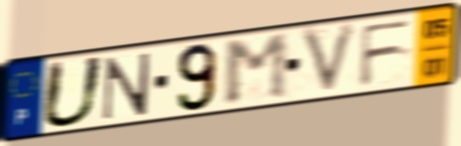9: (173, 41, 222, 113)
F: (357, 17, 416, 90)
M: (222, 30, 291, 108)
N: (99, 50, 154, 123)
U: (38, 53, 109, 130)
V: (297, 18, 362, 99)
